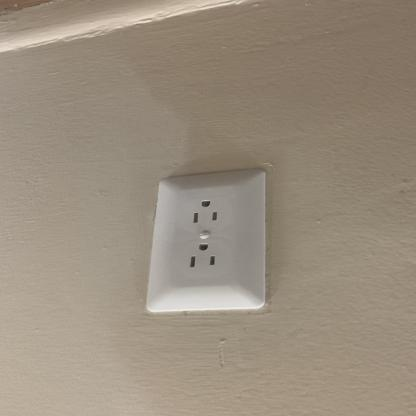OUTLET: (144, 164, 272, 315)
